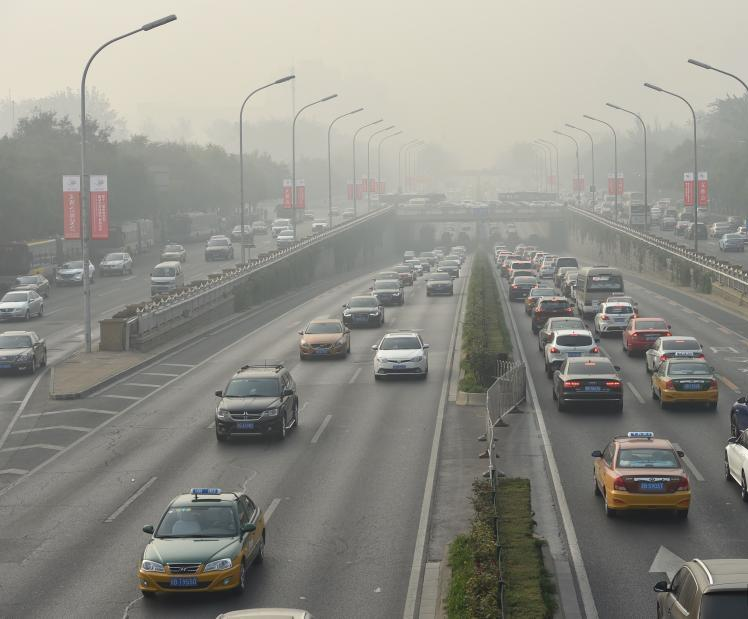bus: (1, 229, 89, 280), (572, 265, 626, 320), (95, 216, 154, 256), (167, 210, 218, 243), (620, 200, 652, 231), (273, 199, 306, 224)
car: (136, 486, 266, 593), (590, 429, 692, 520), (211, 363, 297, 441), (650, 557, 748, 619), (650, 349, 720, 410), (553, 355, 624, 415), (370, 331, 430, 378), (544, 328, 601, 376), (645, 334, 706, 374), (620, 313, 673, 357), (720, 418, 748, 500), (296, 317, 349, 360), (539, 314, 591, 354), (1, 330, 48, 374), (531, 295, 575, 332), (594, 300, 638, 336), (148, 259, 186, 298), (1, 288, 44, 321), (340, 295, 384, 327), (55, 258, 96, 287), (523, 284, 560, 316), (507, 274, 543, 304), (367, 278, 404, 307), (606, 289, 640, 320), (728, 388, 748, 439), (9, 275, 50, 299), (99, 251, 134, 277), (424, 270, 455, 296), (551, 254, 579, 282), (203, 236, 233, 262), (510, 267, 541, 291), (558, 272, 589, 296), (373, 270, 400, 296), (499, 253, 525, 278), (538, 254, 565, 276), (159, 241, 185, 263), (555, 264, 579, 287), (719, 231, 745, 252), (271, 217, 294, 240), (508, 259, 534, 279), (391, 265, 413, 287), (539, 259, 560, 282), (436, 259, 460, 279), (230, 224, 254, 244), (685, 222, 709, 241), (531, 252, 555, 270), (276, 229, 299, 247), (403, 258, 423, 278), (397, 262, 417, 281), (497, 250, 515, 270), (709, 222, 730, 239), (310, 218, 331, 234), (413, 255, 430, 274), (249, 221, 269, 236), (444, 253, 461, 270), (659, 216, 677, 232), (677, 212, 695, 227), (675, 219, 691, 235), (647, 206, 661, 224), (402, 249, 417, 263), (342, 207, 358, 220), (327, 205, 341, 217)
